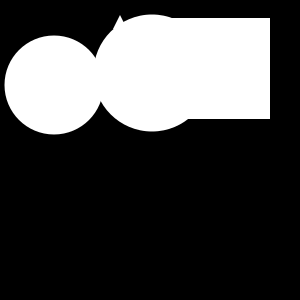circle: (169, 18, 270, 119)
rectangle: (94, 15, 210, 132), (4, 35, 103, 134)
triangle: (113, 15, 127, 29)
